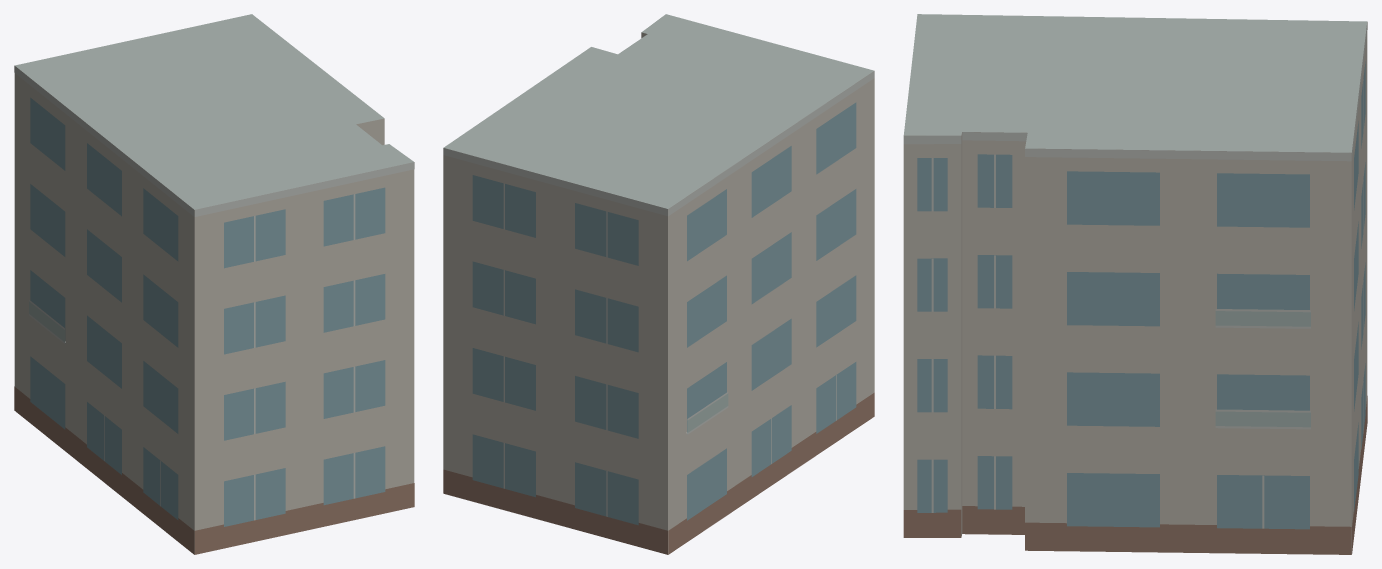
Rendered from survey-upis-32964291.glb.
3 views of the same model, side by side, from view 1: azimuth 30°, elevation 25°; view 2: azimuth 150°, elevation 25°; view 3: azimuth 270°, elevation 25° (orthographic). The views are drawn at different scales.
Parts seen in each view (by area): view 1: survey-upis-32964291.tmp; view 2: survey-upis-32964291.tmp; view 3: survey-upis-32964291.tmp.
Part boxes in pixels (x1,y1,x2,y2): survey-upis-32964291.tmp: (14, 14, 414, 554); survey-upis-32964291.tmp: (443, 14, 874, 554); survey-upis-32964291.tmp: (903, 14, 1367, 554).
Bounding box in the file's own units: 8.56 × 11.55 × 12.08.
